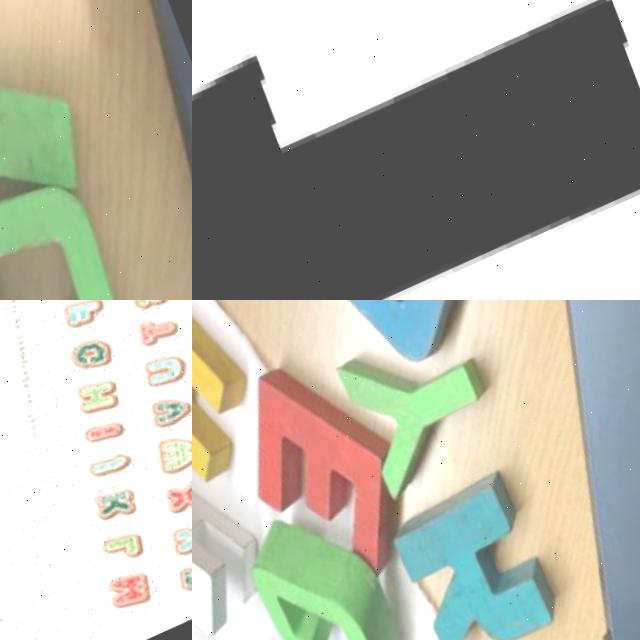C: (0, 140, 186, 300), (237, 490, 425, 640)
E: (226, 355, 436, 600)
J: (279, 300, 498, 385)
K: (394, 489, 587, 640)
R: (192, 300, 299, 514)
T: (192, 0, 640, 300)
Y: (333, 321, 526, 504)
